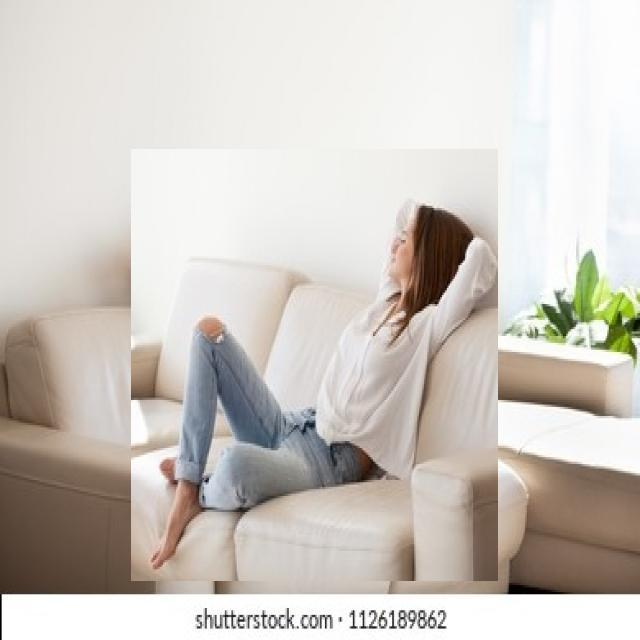NotFall: (150, 186, 519, 594)
